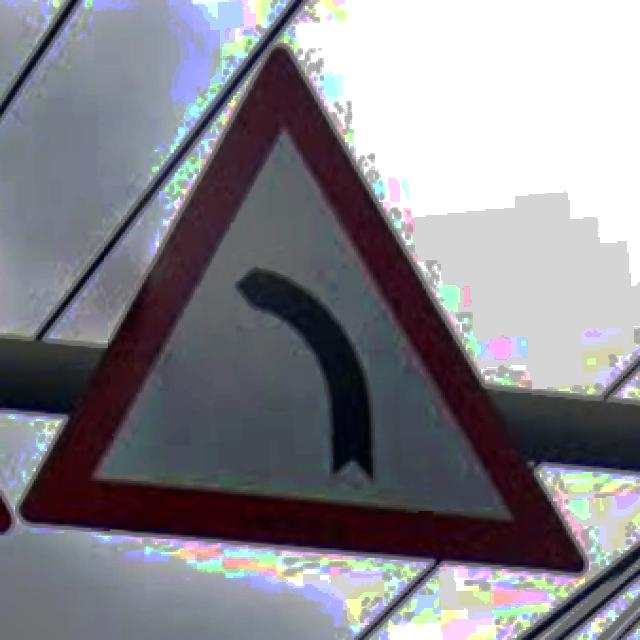leftbend: (19, 47, 583, 575)
